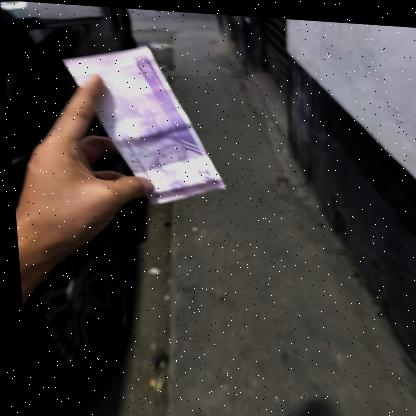vef_back: (58, 37, 226, 207)
